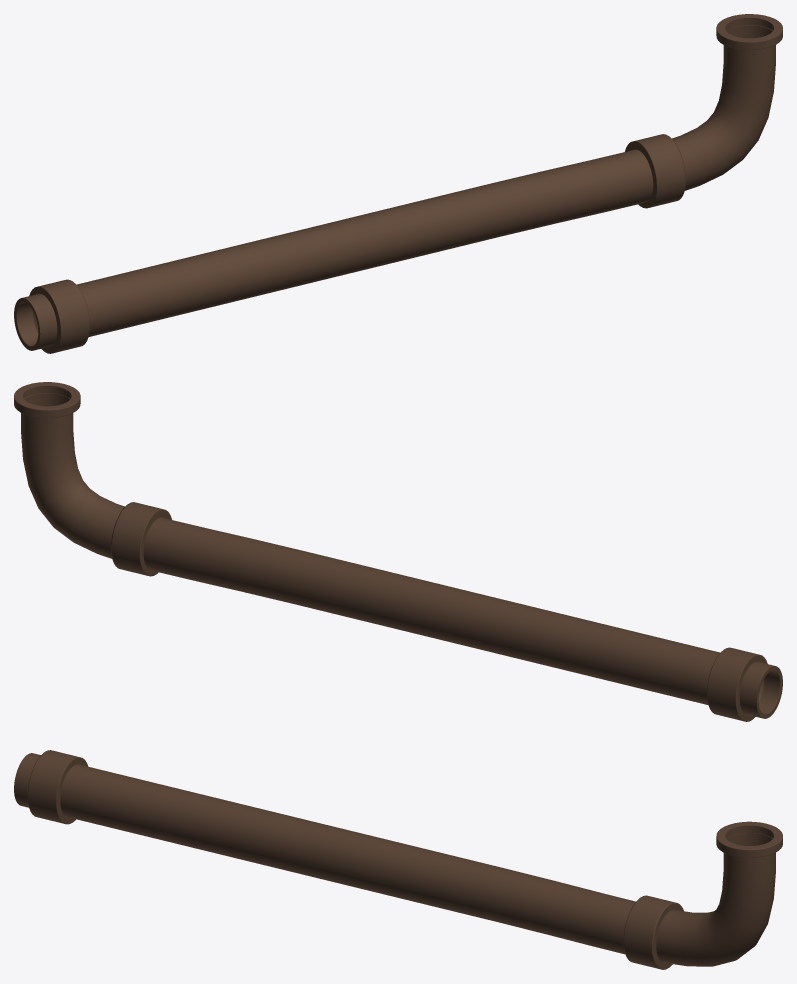
File: Pipe.fbx
3 renders of one model, top to bottom at view 1: azimuth 30°, elevation 25°; view 2: azimuth 150°, elevation 25°; view 3: azimuth 330°, elevation 25°, orthographic.
Parts seen in each view (by area): view 1: Pipe, Cylinder.002, Cylinder.001, Cylinder.003; view 2: Pipe, Cylinder.002, Cylinder.001, Cylinder.003; view 3: Pipe, Cylinder.001, Cylinder.002, Cylinder.003.
Boxes of the visible parts, x1,y1,x2,y2 form: Pipe: (14, 19, 775, 350); Cylinder.002: (14, 279, 89, 353); Cylinder.001: (625, 134, 685, 208); Cylinder.003: (716, 14, 782, 50); Pipe: (21, 387, 782, 718); Cylinder.002: (707, 647, 782, 721); Cylinder.001: (111, 502, 171, 576); Cylinder.003: (14, 382, 80, 418); Pipe: (14, 753, 775, 966); Cylinder.001: (623, 895, 683, 969); Cylinder.002: (27, 750, 88, 824); Cylinder.003: (716, 821, 782, 857).
Size of the model in its own units: 69.47 by 13.38 by 5.34.
